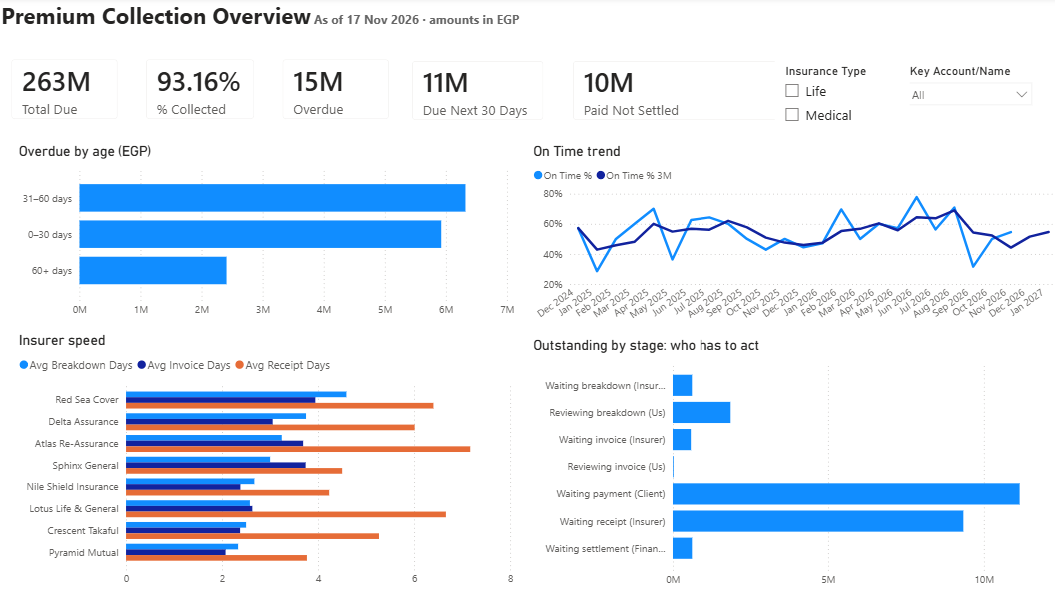

Layout of this report page (visuals, bound fields, positions):
{"tool":"powerbi","page":{"name":"Overview","canvas":[1280,720],"ordinal":0},"visuals":[{"type":"textbox","box":[0,0,1107.5,67.5],"z":0},{"type":"cardVisual","fields":{"Data":["_Measures.Total Due"]},"box":[0,58,162,106],"z":1000},{"type":"cardVisual","fields":{"Data":["_Measures.% Collected"]},"box":[162,58,164,106],"z":2000},{"type":"cardVisual","fields":{"Data":["_Measures.Overdue"]},"box":[326,58,162,106],"z":3000},{"type":"cardVisual","fields":{"Data":["_Measures.Due Next 30 Days"]},"box":[482.5,60,192.5,105],"z":4000},{"type":"cardVisual","fields":{"Data":["_Measures.Paid Not Settled"]},"box":[675,60,295,105],"z":5000},{"type":"slicer","fields":{"Values":["Customer.Key Account/Name"]},"box":[1085,75,170,122.5],"z":6000},{"type":"slicer","fields":{"Values":["Product.Insurance Type"]},"box":[937.5,75,162.5,97.5],"z":7000},{"type":"clusteredBarChart","title":"Overdue by age (EGP)","fields":{"Category":["Installments.Aging Bucket"],"Y":["_Measures.Overdue"]},"box":[22,176,606,218],"z":8000},{"type":"lineChart","title":"On Time trend","fields":{"Category":["Date.Month"],"Y":["_Measures.On Time %","_Measures.On Time % 3M"]},"box":[640,177.5,640,232.5],"z":9000},{"type":"clusteredBarChart","title":"Insurer speed","fields":{"Category":["Installments.Insurer/Name"],"Y":["_Measures.Avg Breakdown Days","_Measures.Avg Invoice Days","_Measures.Avg Receipt Days"]},"box":[20,405,605,315],"z":10000},{"type":"clusteredBarChart","title":"Outstanding by stage: who has to act","fields":{"Category":["Installments.Stage"],"Y":["_Measures.Outstanding"]},"box":[640,411,640,309],"z":11000}]}

Visuals, with their boxes in screenshot pixels (x1, y1, x2, y2), scaled from the page's 1280x720 canvas onto the 1055x591 screenshot:
textbox: x1=0, y1=0, x2=913, y2=55
cardVisual - _Measures.Total Due: x1=0, y1=48, x2=134, y2=135
cardVisual - _Measures.% Collected: x1=134, y1=48, x2=269, y2=135
cardVisual - _Measures.Overdue: x1=269, y1=48, x2=402, y2=135
cardVisual - _Measures.Due Next 30 Days: x1=398, y1=49, x2=556, y2=135
cardVisual - _Measures.Paid Not Settled: x1=556, y1=49, x2=799, y2=135
slicer - Customer.Key Account/Name: x1=894, y1=62, x2=1034, y2=162
slicer - Product.Insurance Type: x1=773, y1=62, x2=907, y2=142
"Overdue by age (EGP)" clusteredBarChart: x1=18, y1=144, x2=518, y2=323
"On Time trend" lineChart: x1=528, y1=146, x2=1054, y2=337
"Insurer speed" clusteredBarChart: x1=16, y1=332, x2=515, y2=590
"Outstanding by stage: who has to act" clusteredBarChart: x1=528, y1=337, x2=1054, y2=590
